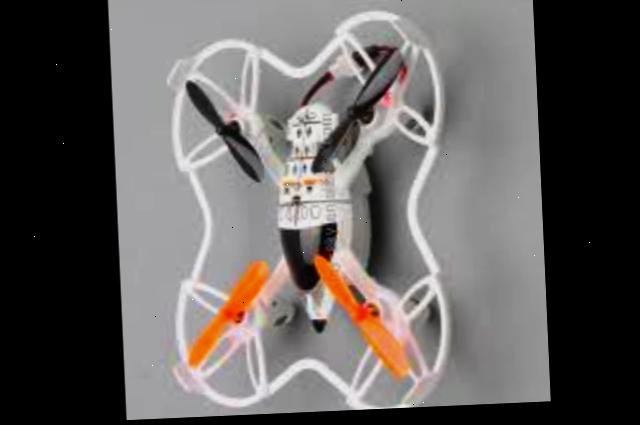drone: (146, 0, 470, 420)
